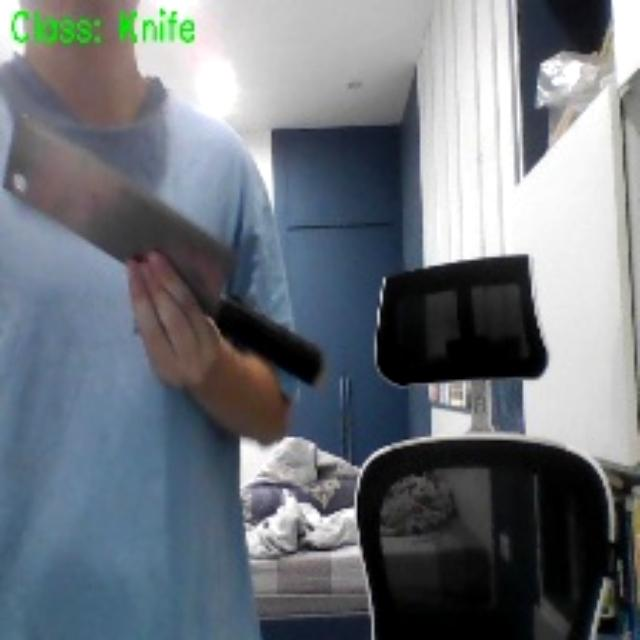Knife: (3, 118, 322, 385)
